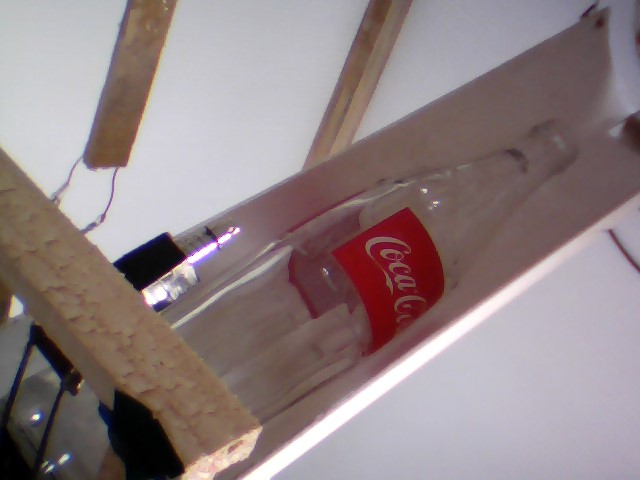vidrio: (178, 111, 591, 418)
